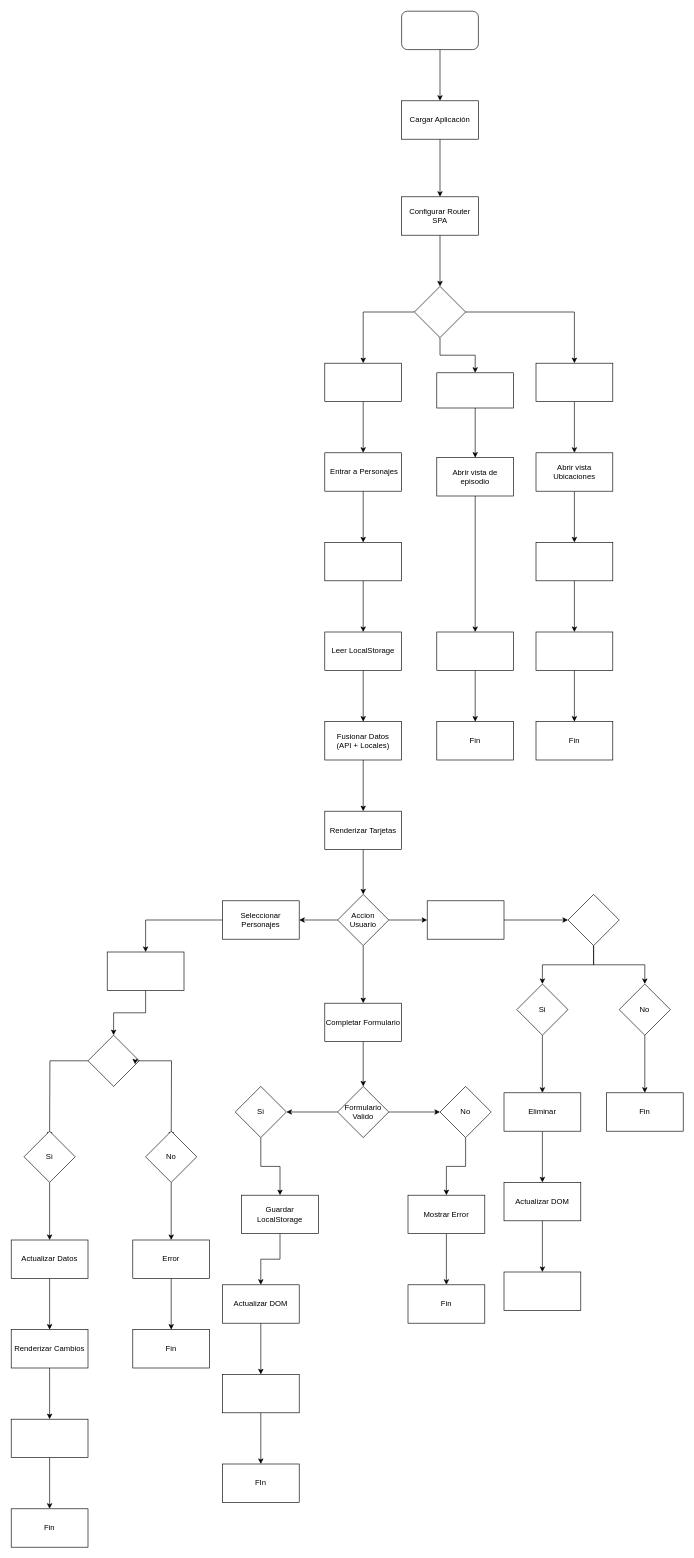
Some shapes in this 694 by 1558 pixel diagram are drawn without their labels. Each missing label, with the box of its shape:
Confirmar: (567, 894, 619, 946)
Consultar API: (535, 542, 613, 581)
Consultar API Rick and Morty: (324, 542, 402, 581)
Datos Validos?: (87, 1035, 139, 1086)
Edicion Exitosa: (11, 1419, 88, 1458)
Episodios: (436, 372, 514, 408)
Iliminar: (427, 900, 504, 939)
Inicio: (401, 11, 478, 50)
Mostrar Exito: (222, 1374, 299, 1413)
Mostrar Formulario: (107, 951, 184, 990)
Personaje Eliminado: (503, 1271, 581, 1310)
Personajes: (324, 363, 402, 402)
Que pagina selecciono: (414, 286, 466, 338)
Renderizar Episodios: (436, 631, 514, 670)
Renderizar Locations: (535, 631, 613, 670)
Ubicaciones: (535, 363, 613, 402)
